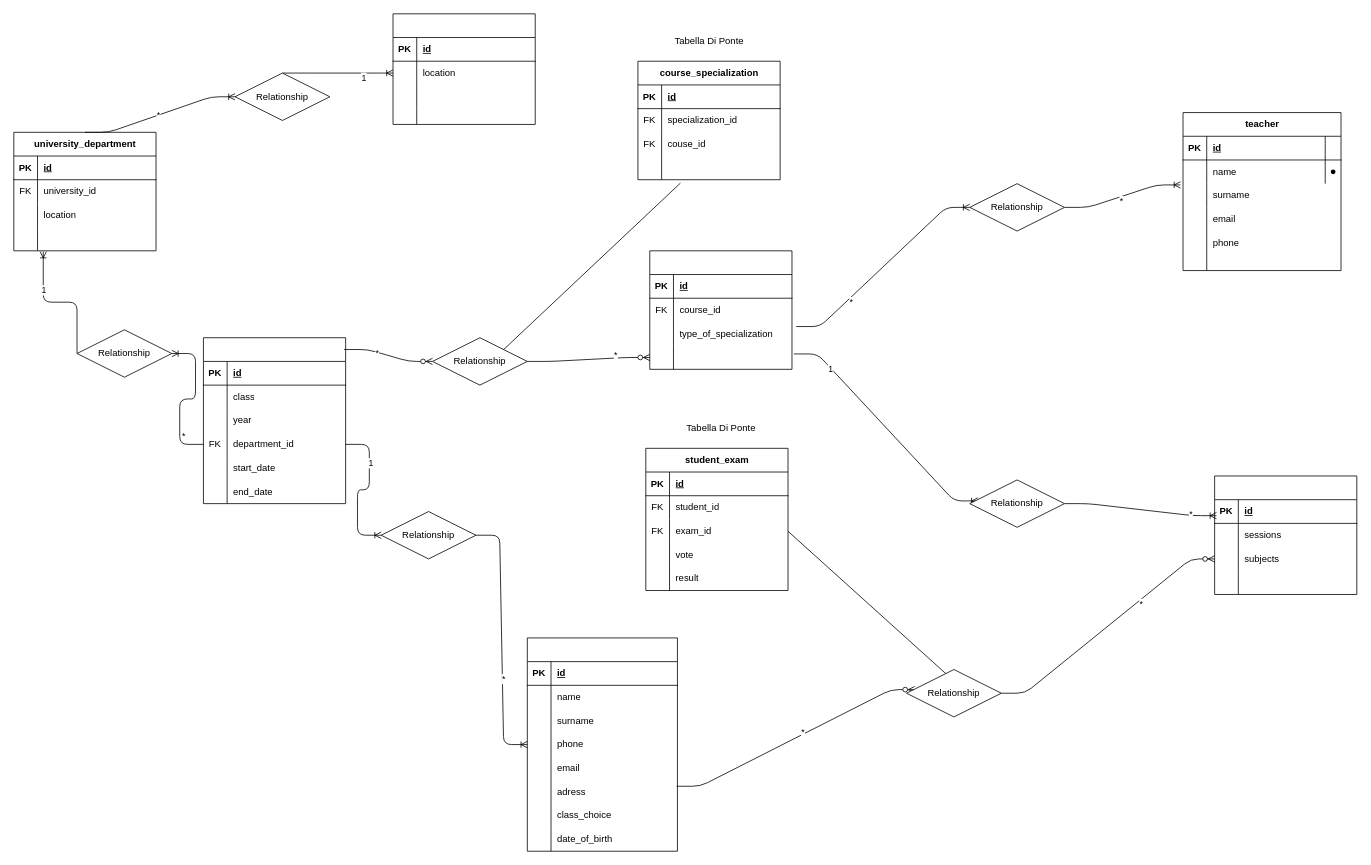
This 1371x865 diagram has some shape labels left out. Each missing label, with the box of its shape:
course: (203, 337, 346, 504)
exam: (1214, 475, 1357, 594)
specilization: (649, 250, 792, 369)
student: (527, 637, 677, 851)
university: (392, 13, 535, 124)
